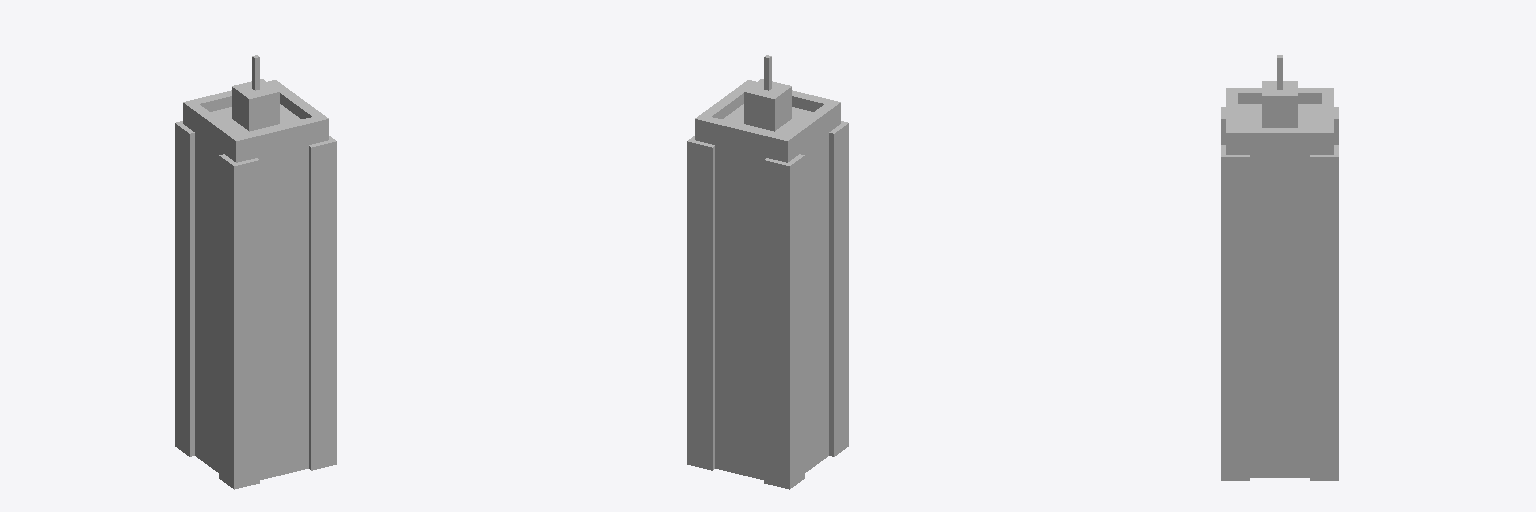
File: low_buildingD.obj
The picture shows the model from 3 angles: view 1: azimuth 30°, elevation 25°; view 2: azimuth 150°, elevation 25°; view 3: azimuth 270°, elevation 25°; orthographic projection.
Parts seen in each view (by area): view 1: low_buildingD; view 2: low_buildingD; view 3: low_buildingD.
Part boxes in pixels (left/top/right/bottom): low_buildingD: left=175, top=55, right=336, bottom=489; low_buildingD: left=687, top=55, right=848, bottom=489; low_buildingD: left=1221, top=55, right=1338, bottom=480.
Bounding box in the file's own units: 0.5 × 1.85 × 0.5.